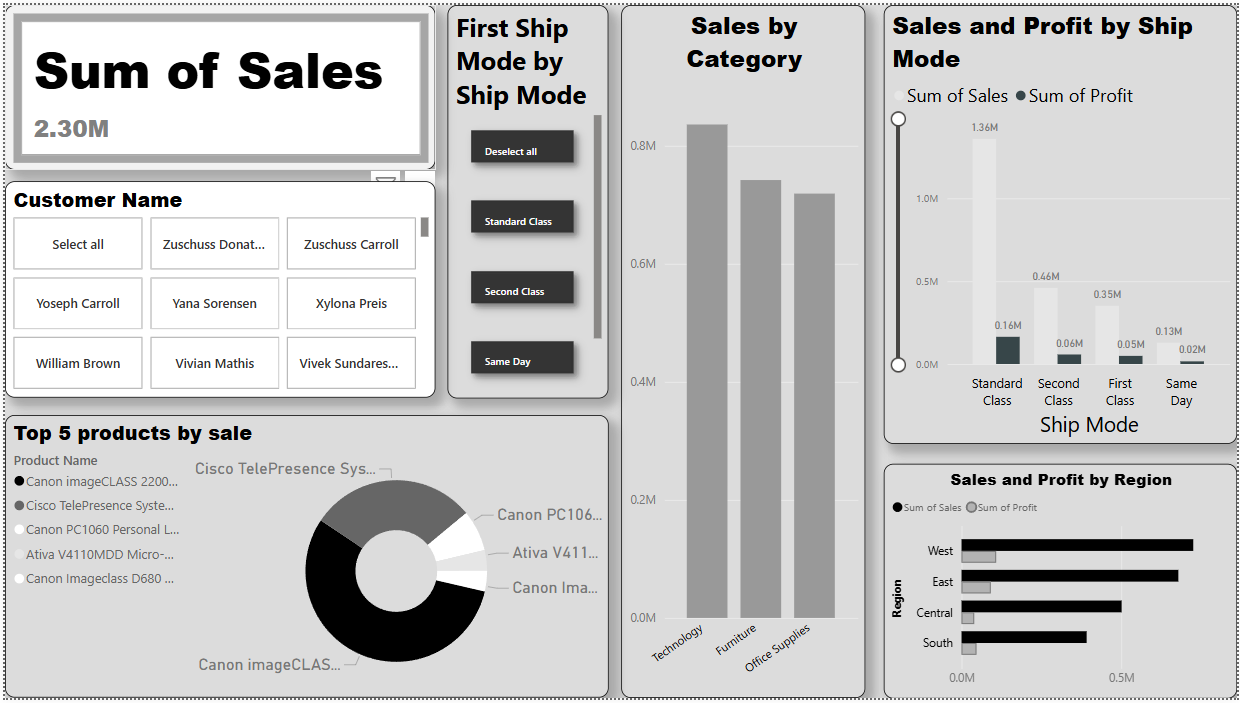

This screenshot's page, from the dashboard's own definition file:
{"tool":"powerbi","page":{"name":"Page 1","canvas":[1280,720],"ordinal":0},"visuals":[{"type":"cardVisual","fields":{"Data":["Sum(Orders.Sales)"]},"box":[0,0,447.5,171.2],"z":0},{"type":"columnChart","title":" Sales by Category","fields":{"Category":["Orders.Category"],"Y":["Sum(Orders.Sales)"]},"box":[640,0,253.8,720],"z":1000},{"type":"advancedSlicerVisual","fields":{"Values":["Orders.Customer Name"]},"box":[0,183.8,447.5,225],"z":2000},{"type":"donutChart","title":"Top 5 products by sale","fields":{"Category":["Orders.Product Name"],"Y":["Sum(Orders.Sales)"]},"box":[0,426.2,627.5,293.8],"z":3000},{"type":"advancedSlicerVisual","fields":{"Values":["Orders.Ship Mode"]},"box":[460,0,167.5,408.8],"z":4000},{"type":"clusteredColumnChart","title":" Sales and  Profit by Ship Mode","fields":{"Y":["Sum(Orders.Sales)","Sum(Orders.Profit)"],"Category":["Orders.Ship Mode"]},"box":[912.5,0,367.5,456.2],"z":5000},{"type":"clusteredBarChart","title":"Sales and Profit by Region","fields":{"Y":["Sum(Orders.Sales)","Sum(Orders.Profit)"],"Category":["Orders.Region"]},"box":[912.5,476.2,367.5,243.8],"z":6000}]}

Visuals, with their boxes in screenshot pixels (x1, y1, x2, y2), scaled from the page's 1280x720 canvas onto the 1240x703 screenshot:
cardVisual - Sum(Orders.Sales): l=0, t=0, r=434, b=167
" Sales by Category" columnChart: l=620, t=0, r=866, b=702
advancedSlicerVisual - Orders.Customer Name: l=0, t=179, r=434, b=399
"Top 5 products by sale" donutChart: l=0, t=416, r=608, b=702
advancedSlicerVisual - Orders.Ship Mode: l=446, t=0, r=608, b=399
" Sales and  Profit by Ship Mode" clusteredColumnChart: l=884, t=0, r=1239, b=445
"Sales and Profit by Region" clusteredBarChart: l=884, t=465, r=1239, b=702
